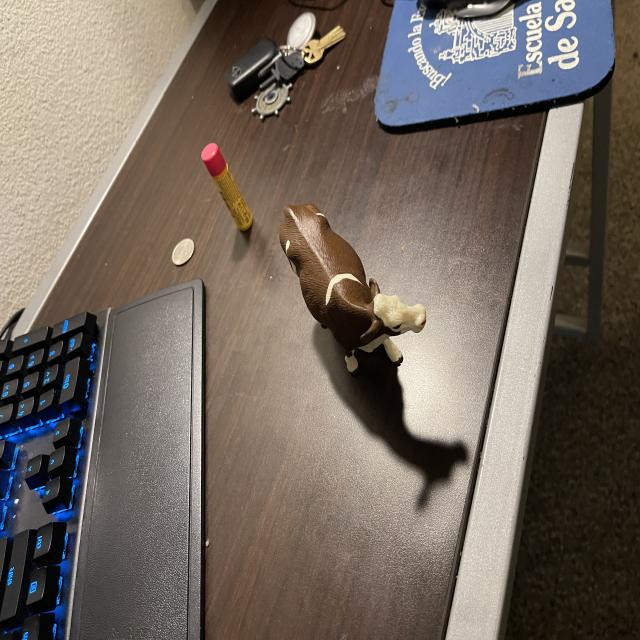cow: (232, 192, 440, 394)
